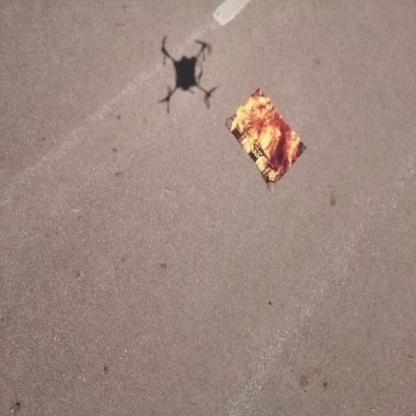fire-poster: (224, 86, 307, 190)
